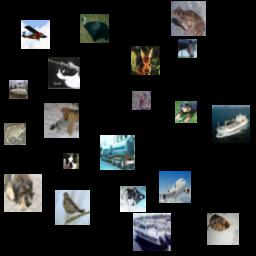airplane: (159, 171, 191, 203), (21, 20, 50, 49)
bird: (55, 190, 90, 225), (80, 14, 109, 43)
cat: (207, 213, 239, 245), (48, 57, 80, 89)
deer: (131, 46, 160, 75), (132, 91, 151, 110)
dog: (4, 174, 42, 212), (44, 103, 79, 138), (120, 186, 146, 212), (175, 101, 197, 123), (63, 153, 79, 169)
frog: (171, 1, 206, 36), (4, 123, 26, 145)
ship: (212, 105, 250, 143), (133, 213, 171, 251), (9, 80, 28, 99)
truck: (100, 135, 135, 170)
